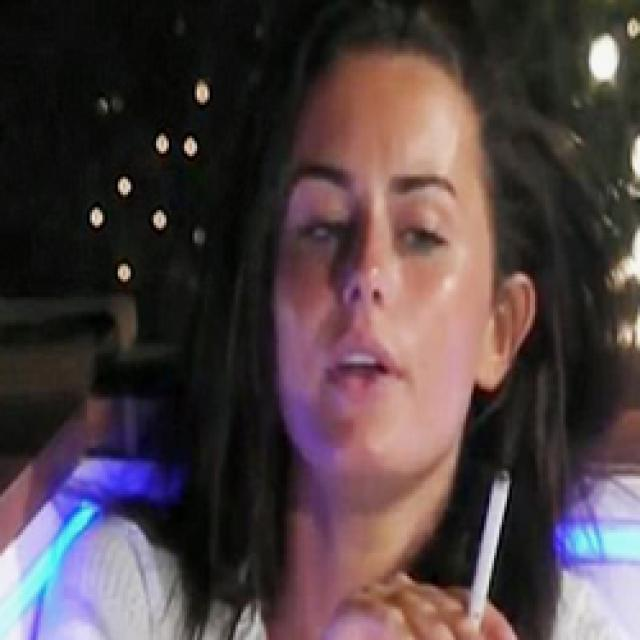Smooking: (455, 460, 528, 614)
